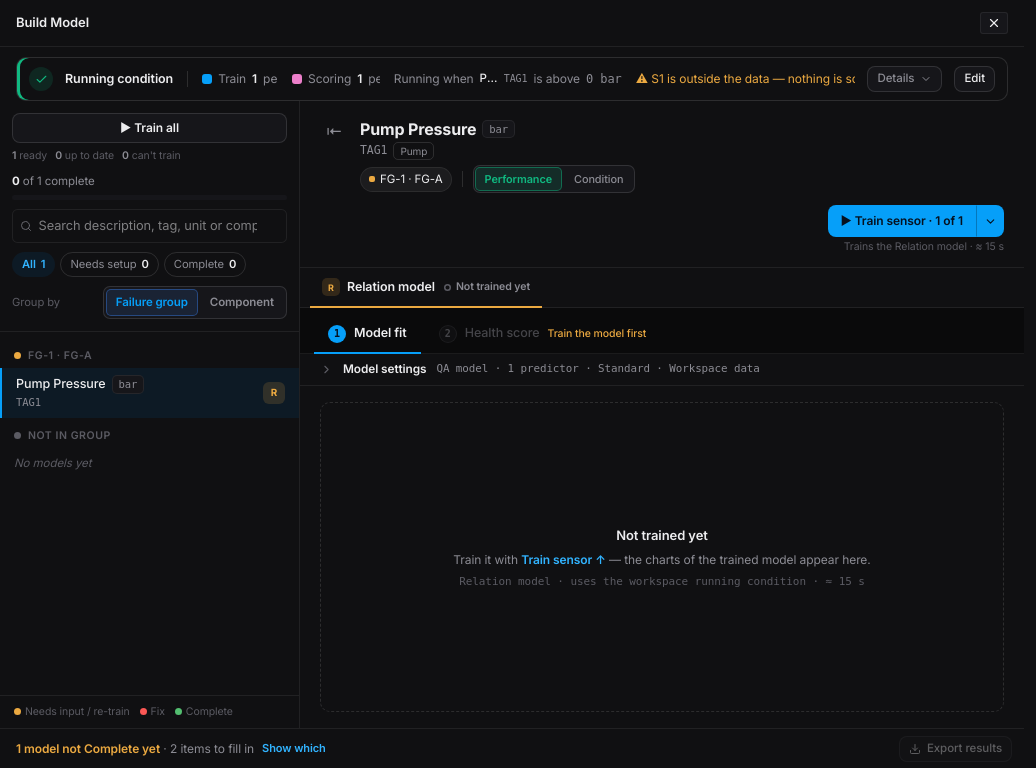
(5) status words / notice line / Mark complete agree with the results area › an unsaved stiffness change after training hides the old chart and blocks Mark complete
The width and height of the screenshot is (1036, 768).
Expected: the element with test id "rc-card" is shown, [16,57,1008,101]
Step 1. Click the button with test id "train-sensor" → (902, 221), box [828,205,976,237]
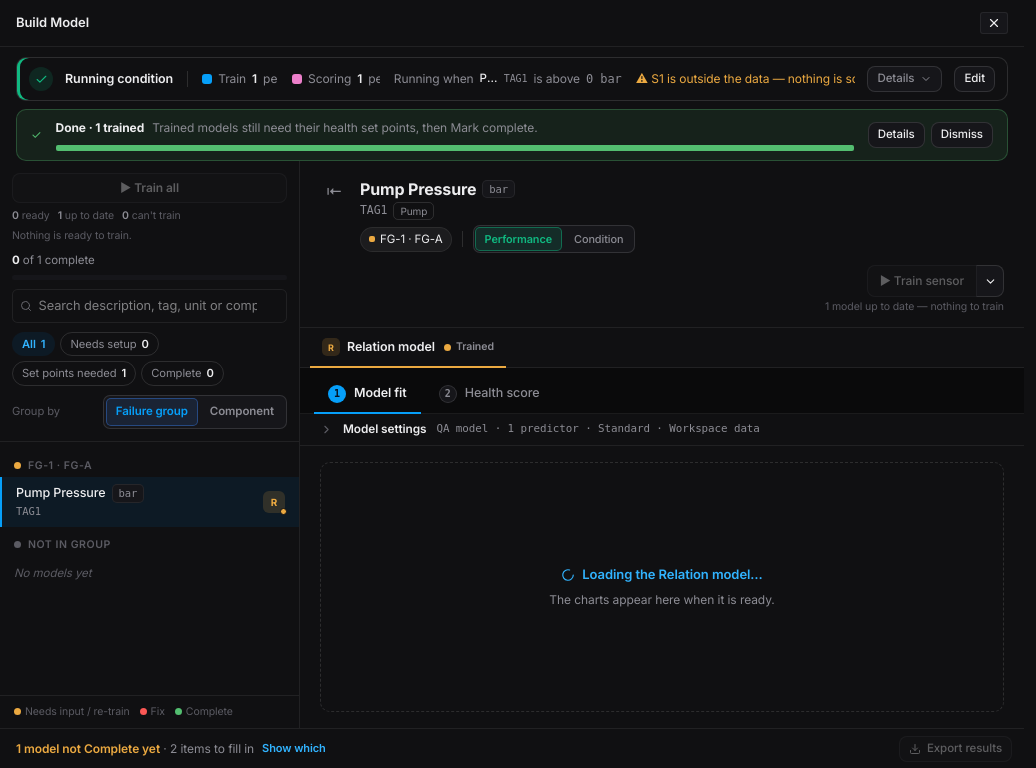
Expected: the text with test id "tab-words-" reads "Trained", [456,340,494,353]
Step 2. Click the text "Model settings" → (385, 430), box [343,421,426,438]
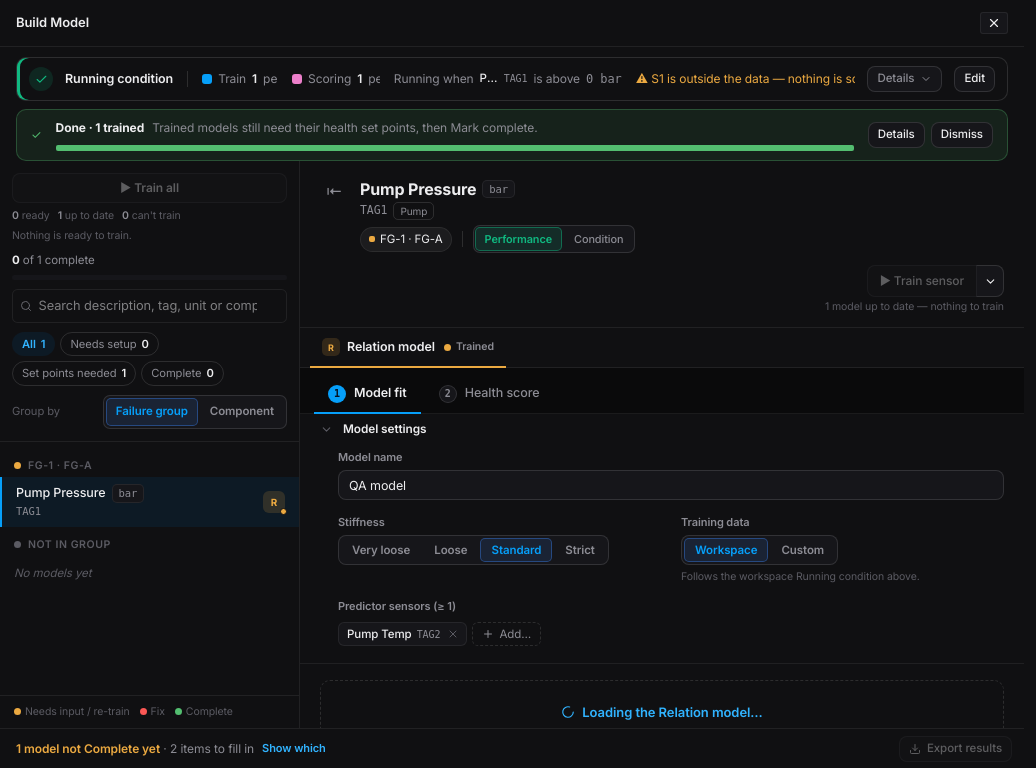
Step 3. Click the button "Strict" → (580, 550), box [554,538,606,562]
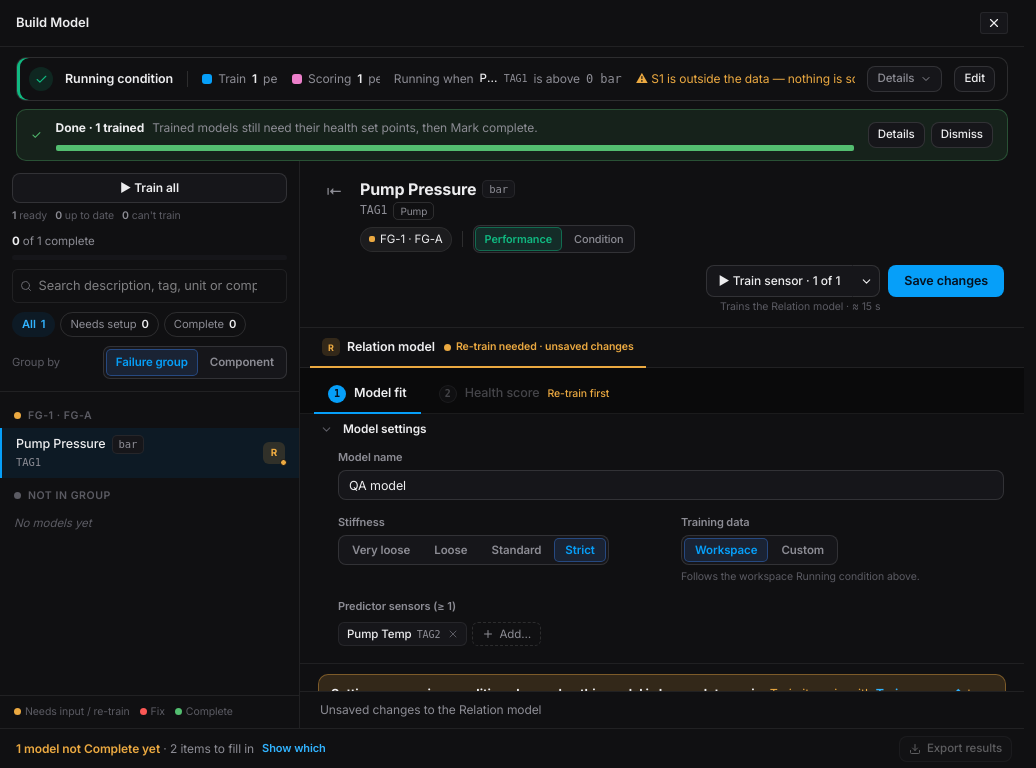
Expected: the button with test id "save-changes" is shown, [888,265,1004,297]
